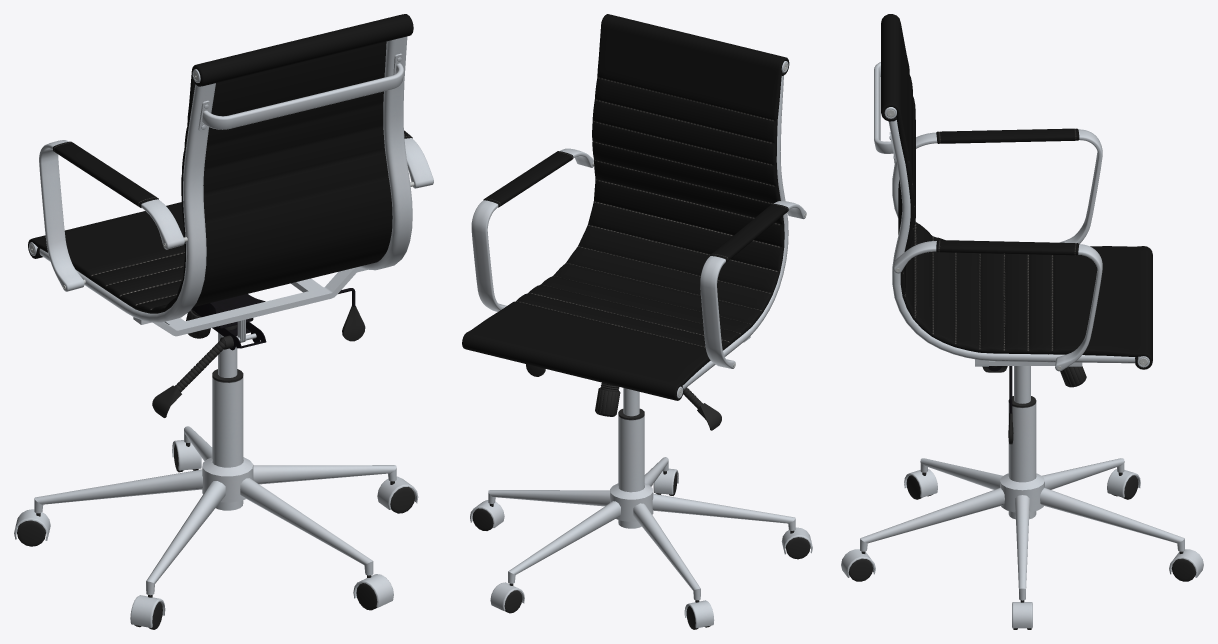
File: office_chair.fbx
3 renders of one model, left to right at view 1: azimuth 30°, elevation 25°; view 2: azimuth 150°, elevation 25°; view 3: azimuth 270°, elevation 25°, orthographic. The views are drawn at different scales.
Visible parts, largest first — view 1: office_chair; view 2: office_chair; view 3: office_chair.
Part boxes in pixels (box(x1,y1,x2,y2)): office_chair: box(14, 14, 433, 629); office_chair: box(462, 14, 812, 629); office_chair: box(841, 14, 1203, 629).
Size of the model in its own units: 56.69 by 90.06 by 59.6.
